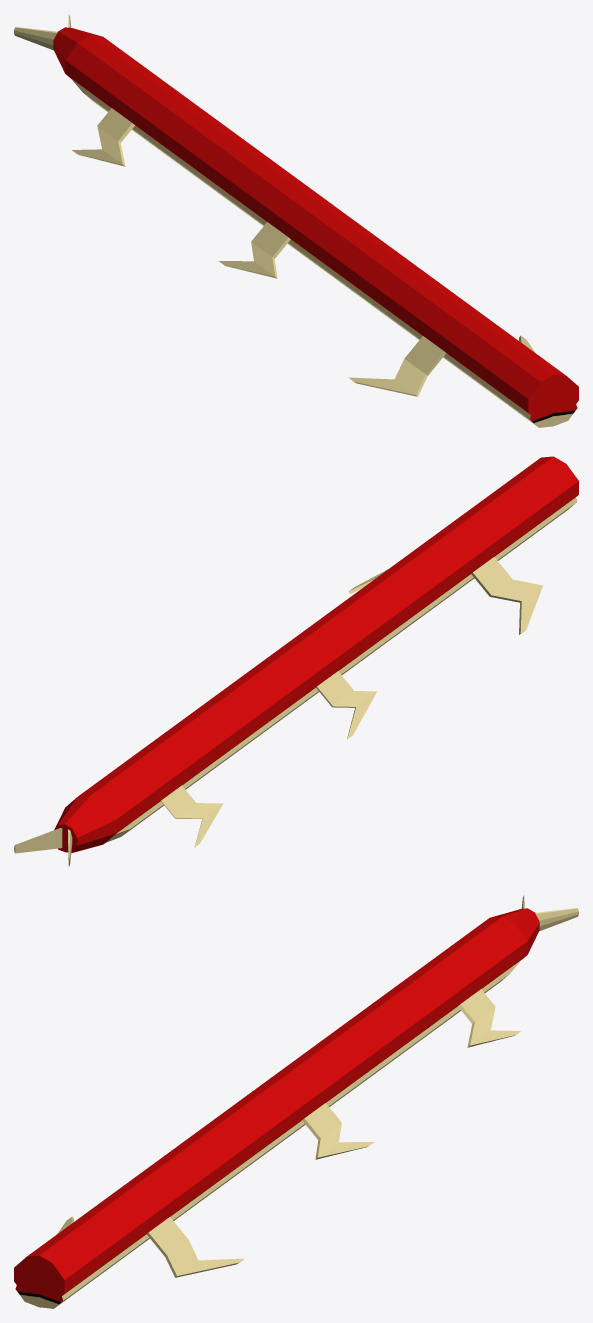
Rendered from Boss_Delta_Tail.fbx.
3 views of the same model, one above another, from view 1: azimuth 30°, elevation 25°; view 2: azimuth 150°, elevation 25°; view 3: azimuth 330°, elevation 25° (orthographic).
Parts seen in each view (by area): view 1: Boss_Delta_Weapon; view 2: Boss_Delta_Weapon; view 3: Boss_Delta_Weapon.
Part boxes in pixels (left/top/right/bottom): Boss_Delta_Weapon: left=14, top=14, right=578, bottom=427; Boss_Delta_Weapon: left=14, top=456, right=578, bottom=866; Boss_Delta_Weapon: left=14, top=895, right=578, bottom=1308.
Bounding box in the file's own units: 420 × 166 × 2160.
